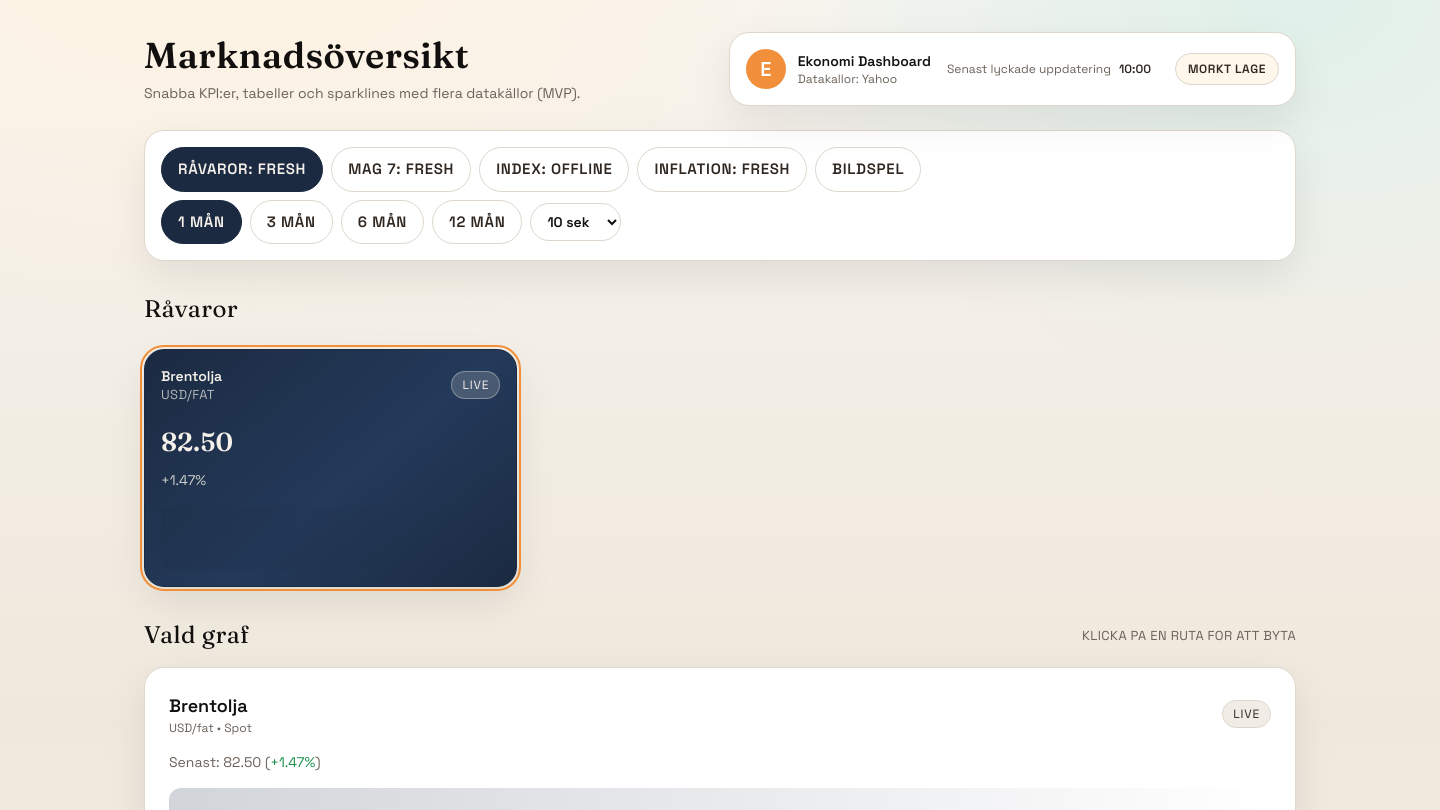
renders shared inflation graph with fixed twelve month series
This screenshot has width=1440, height=810.
Click the button "Inflation: Fresh": (722, 169) [638,147,807,192]
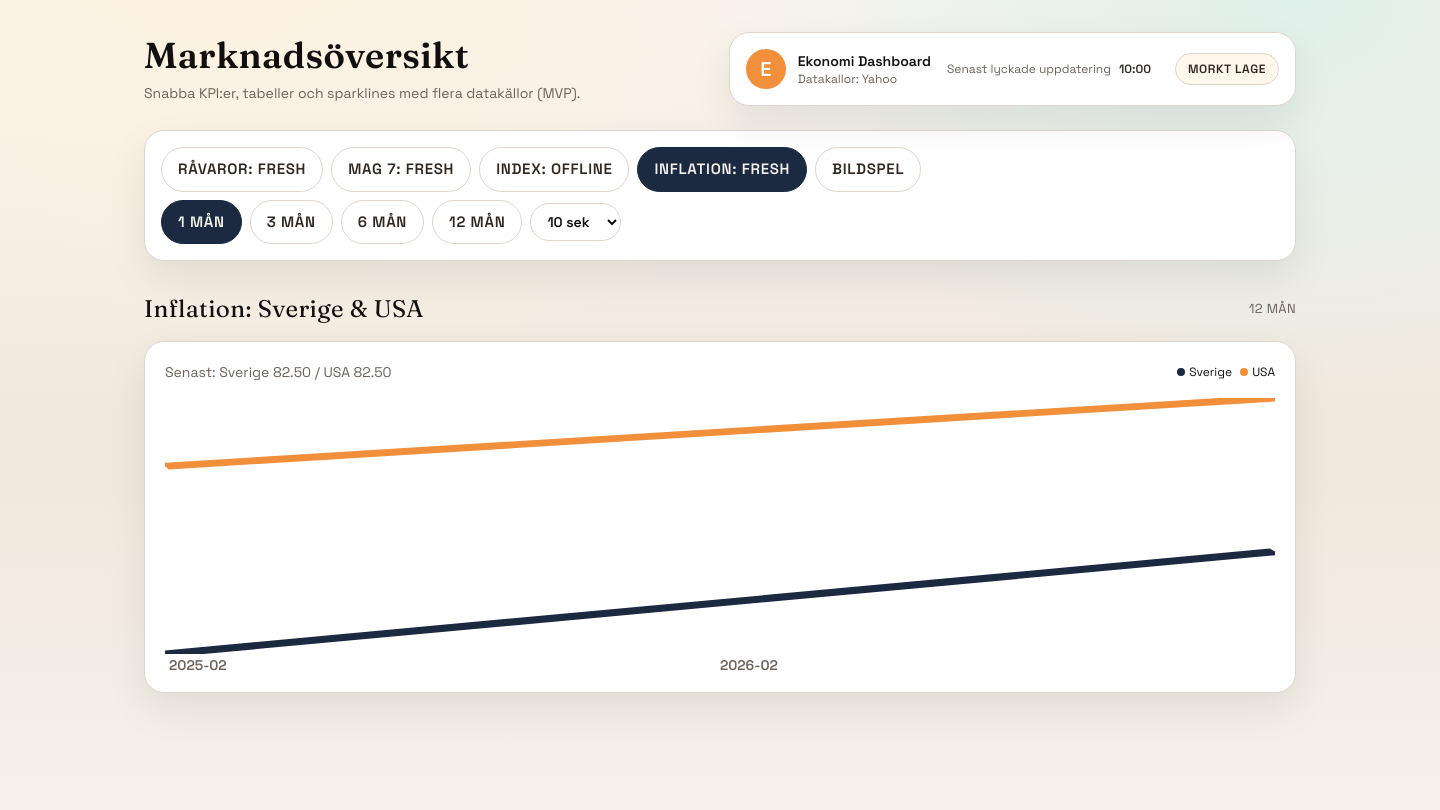
Check: the element with test id "inflation-line-sweden" is shown, box [165,552,1275,654]
Check: the heading "Inflation: Sverige & USA" is shown, box [144,293,424,325]
Check: the element with test id "inflation-shared-chart-panel" is shown, box [144,341,1296,693]
